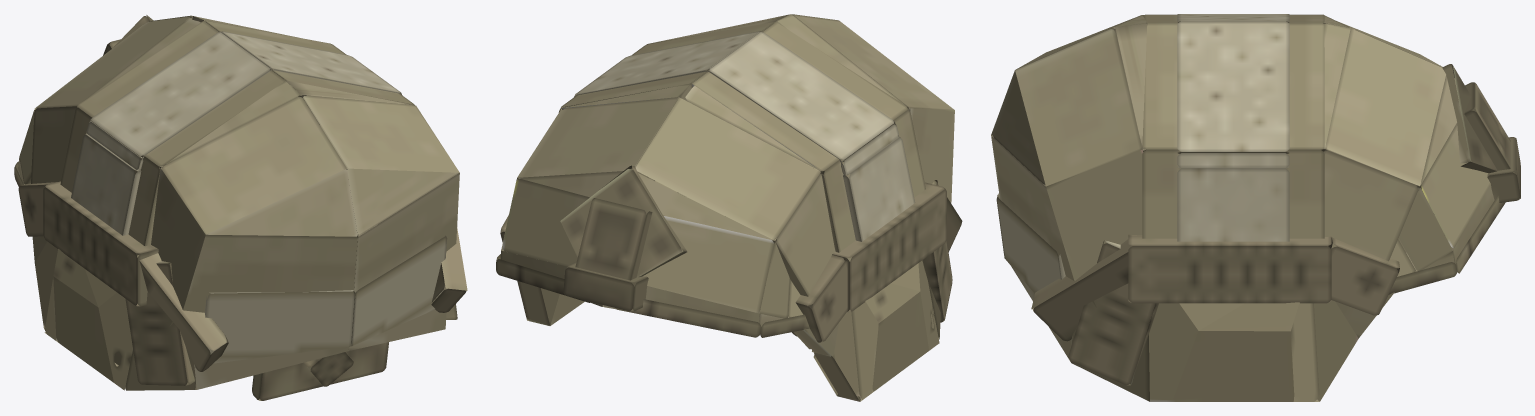
Rendered from ukrainian_h.obj.
3 renders of one model, left to right at view 1: azimuth 30°, elevation 25°; view 2: azimuth 150°, elevation 25°; view 3: azimuth 270°, elevation 25°, orthographic. The views are drawn at different scales.
Visible parts, largest first — view 1: cube; view 2: cube; view 3: cube.
Part boxes in pixels (x1,y1,x2,y2): cube: (14, 15, 467, 400); cube: (496, 14, 962, 401); cube: (991, 14, 1520, 401).
Bounding box in the file's own units: 0.7402 × 0.5973 × 0.9441.
